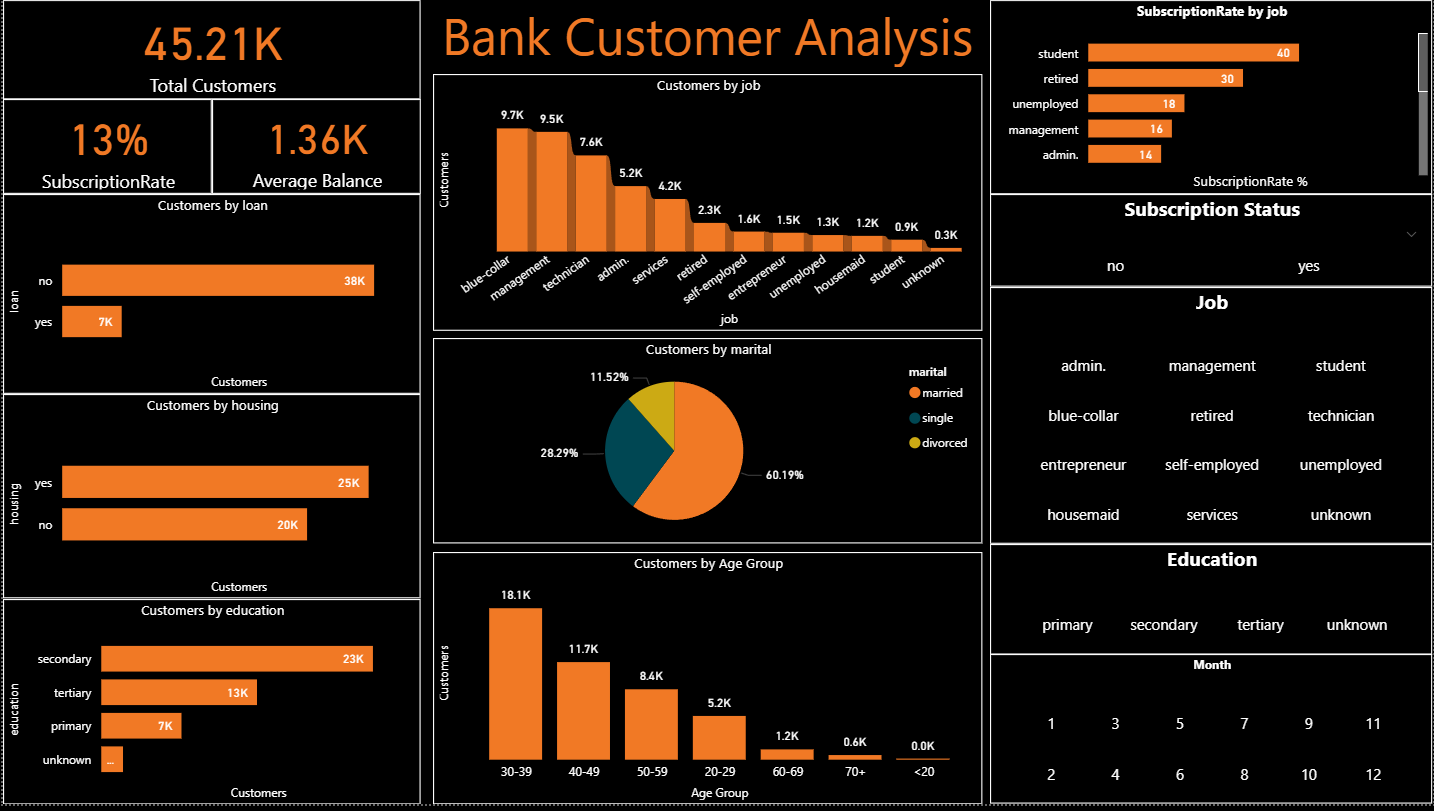

Layout of this report page (visuals, bound fields, positions):
{"tool":"powerbi","page":{"name":"Customer Analysis","canvas":[1280,720],"ordinal":1},"visuals":[{"type":"clusteredColumnChart","fields":{"Y":["CountNonNull(bank-full.CustomerID)"],"Category":["bank-full.Age Group"]},"box":[385,494,492,226],"z":0},{"type":"barChart","fields":{"Category":["bank-full.education"],"Y":["CountNonNull(bank-full.CustomerID)"]},"box":[0,536,374,184],"z":1000},{"type":"pieChart","fields":{"Category":["bank-full.marital"],"Y":["CountNonNull(bank-full.CustomerID)"]},"box":[385,303,492,184],"z":2000},{"type":"columnChart","fields":{"Category":["bank-full.job"],"Y":["CountNonNull(bank-full.CustomerID)"]},"box":[385,66,492,230],"z":3000},{"type":"card","fields":{"Values":["Avg(bank-full.balance)"]},"box":[187,89,187,85],"z":4000},{"type":"barChart","fields":{"Category":["bank-full.loan"],"Y":["CountNonNull(bank-full.CustomerID)"]},"box":[0,174,374,179],"z":5000},{"type":"slicer","title":"Subscription Status","fields":{"Values":["bank-full.Target"]},"box":[884,174,396,83],"z":6000},{"type":"card","fields":{"Values":["CountNonNull(bank-full.CustomerID)"]},"box":[0,0,374,89],"z":7000},{"type":"card","fields":{"Values":["bank-full.SubscriptionRate"]},"box":[0,89,187,85],"z":8000},{"type":"barChart","fields":{"Y":["CountNonNull(bank-full.CustomerID)"],"Category":["bank-full.housing"]},"box":[0,353,374,183],"z":9000},{"type":"slicer","title":"Month","fields":{"Values":["bank-full.month"]},"box":[884,586,396,134],"z":10000},{"type":"slicer","title":"Job","fields":{"Values":["bank-full.job"]},"box":[884,257,396,230],"z":11000},{"type":"slicer","title":"Education","fields":{"Values":["bank-full.education"]},"box":[884,487,396,99],"z":12000},{"type":"textbox","title":"Bank Customer Analysis","box":[385,0,492,66],"z":13000},{"type":"barChart","title":"SubscriptionRate by job","fields":{"Category":["bank-full.job"],"Y":["bank-full.SubscriptionRate"]},"box":[884,0,396,174],"z":14000}]}

Visuals, with their boxes in screenshot pixels (x1, y1, x2, y2), scaled from the page's 1280x720 canvas onto the 1434x811 screenshot:
clusteredColumnChart - CountNonNull(bank-full.CustomerID) x bank-full.Age Group: (x1=431, y1=556, x2=983, y2=810)
barChart - bank-full.education x CountNonNull(bank-full.CustomerID): (x1=0, y1=604, x2=419, y2=810)
pieChart - bank-full.marital x CountNonNull(bank-full.CustomerID): (x1=431, y1=341, x2=983, y2=549)
columnChart - bank-full.job x CountNonNull(bank-full.CustomerID): (x1=431, y1=74, x2=983, y2=333)
card - Avg(bank-full.balance): (x1=209, y1=100, x2=419, y2=196)
barChart - bank-full.loan x CountNonNull(bank-full.CustomerID): (x1=0, y1=196, x2=419, y2=398)
"Subscription Status" slicer: (x1=990, y1=196, x2=1433, y2=289)
card - CountNonNull(bank-full.CustomerID): (x1=0, y1=0, x2=419, y2=100)
card - bank-full.SubscriptionRate: (x1=0, y1=100, x2=209, y2=196)
barChart - CountNonNull(bank-full.CustomerID) x bank-full.housing: (x1=0, y1=398, x2=419, y2=604)
"Month" slicer: (x1=990, y1=660, x2=1433, y2=810)
"Job" slicer: (x1=990, y1=289, x2=1433, y2=549)
"Education" slicer: (x1=990, y1=549, x2=1433, y2=660)
"Bank Customer Analysis" textbox: (x1=431, y1=0, x2=983, y2=74)
"SubscriptionRate by job" barChart: (x1=990, y1=0, x2=1433, y2=196)
